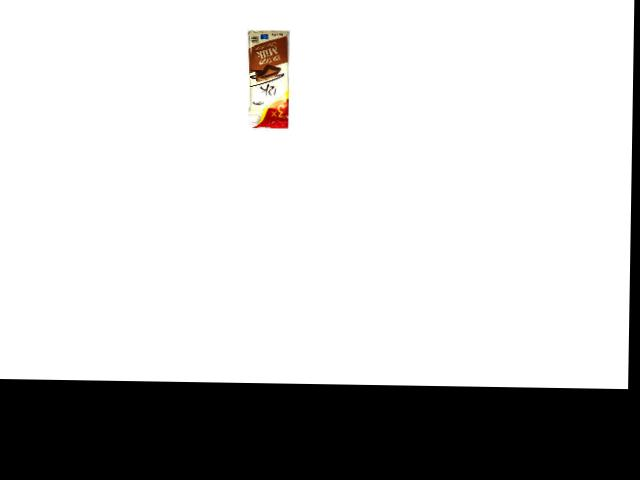chocolate: (244, 32, 293, 130)
